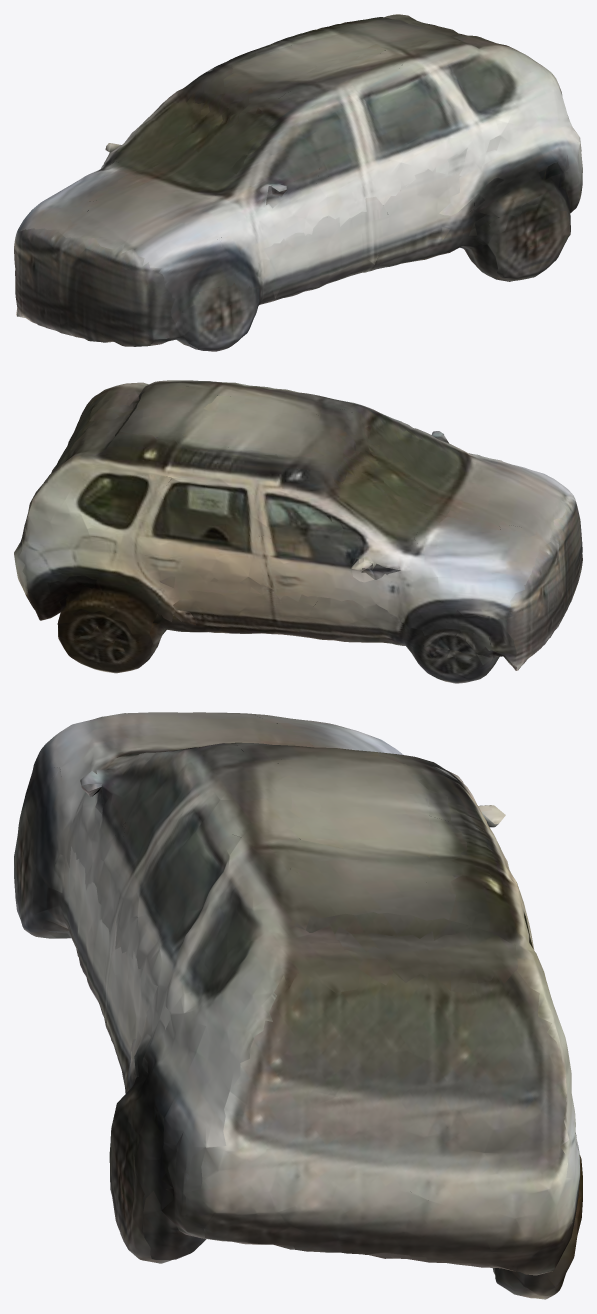
Rendered from duster-sf3d.glb.
3 views of the same model, one above another, from view 1: azimuth 30°, elevation 25°; view 2: azimuth 150°, elevation 25°; view 3: azimuth 270°, elevation 25° (orthographic). The views are drawn at different scales.
Visible parts, largest first — view 1: world; view 2: world; view 3: world.
Part boxes in pixels (x1,y1,x2,y2): world: (14, 14, 582, 351); world: (14, 380, 582, 683); world: (14, 712, 582, 1299).
Bounding box in the file's own units: 0.9417 × 0.4475 × 0.552.
Materials: 1 (1 with a texture image).
